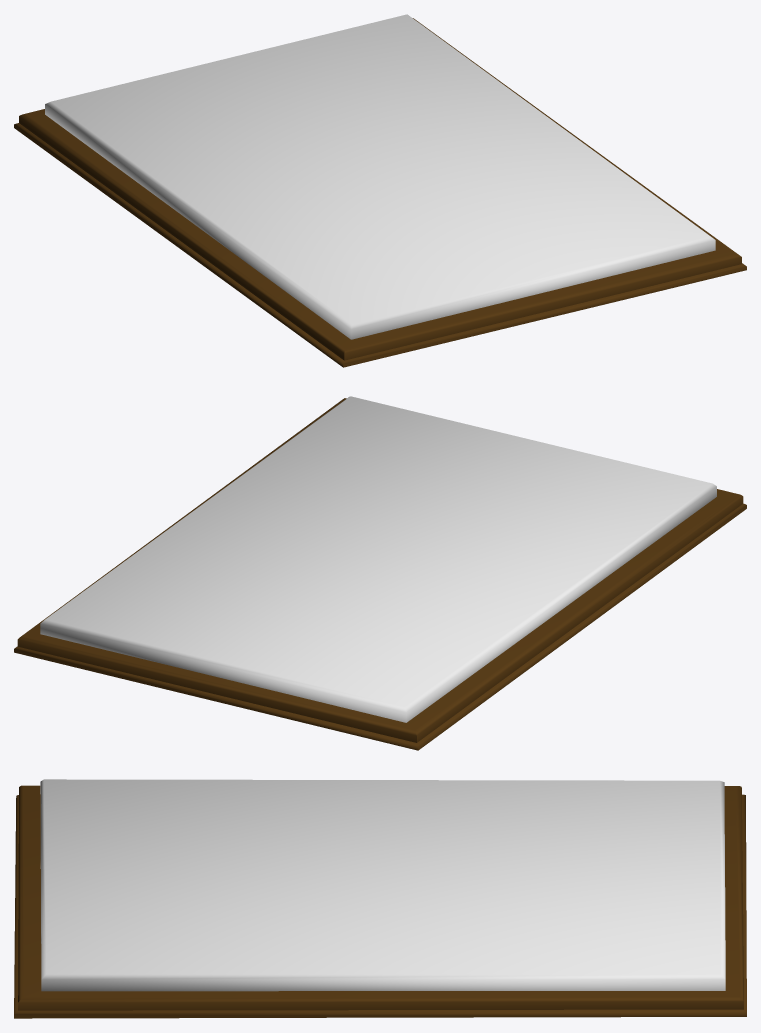
File: PawnRectangle.fbx
3 views of the same model, one above another, from view 1: azimuth 30°, elevation 25°; view 2: azimuth 150°, elevation 25°; view 3: azimuth 270°, elevation 25° (orthographic). The views are drawn at different scales.
Visible parts, largest first — view 1: Cube.001, Cube; view 2: Cube.001, Cube; view 3: Cube.001, Cube.
Part boxes in pixels (bbox=[...]): Cube.001: bbox=[45, 14, 715, 339]; Cube: bbox=[14, 18, 746, 367]; Cube.001: bbox=[40, 396, 716, 722]; Cube: bbox=[14, 398, 746, 750]; Cube.001: bbox=[40, 779, 725, 991]; Cube: bbox=[14, 785, 746, 1018].
Size of the model in its own units: 286 by 19.48 by 403.
